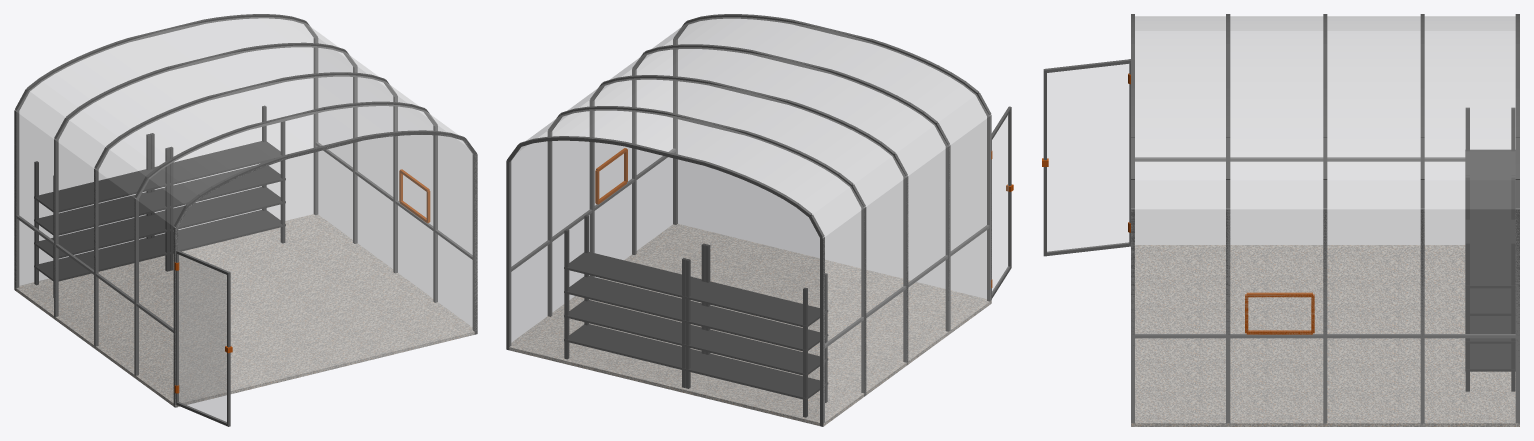
File: poi03_semillero_preview.glb
3 renders of one model, left to right at view 1: azimuth 30°, elevation 25°; view 2: azimuth 150°, elevation 25°; view 3: azimuth 270°, elevation 25°, orthographic. The views are drawn at different scales.
Visible parts, largest first — view 1: envolvente_policarbonato, piso_interior_grava, estructura_metalica_arcos, anaquel_1, anaquel_2, puerta_P1, ventana_W1; view 2: envolvente_policarbonato, piso_interior_grava, estructura_metalica_arcos, anaquel_1, anaquel_2, puerta_P1, ventana_W1; view 3: envolvente_policarbonato, piso_interior_grava, puerta_P1, estructura_metalica_arcos, anaquel_2, anaquel_1, ventana_W1.
Boxes of the visible parts, box(x1,y1,x2,y2) form: envolvente_policarbonato: box(15, 17, 477, 403); piso_interior_grava: box(14, 214, 474, 406); estructura_metalica_arcos: box(14, 14, 477, 407); anaquel_1: box(34, 134, 170, 297); anaquel_2: box(150, 105, 285, 270); puerta_P1: box(174, 250, 232, 426); ventana_W1: box(399, 169, 430, 223); envolvente_policarbonato: box(509, 17, 991, 423); piso_interior_grava: box(509, 224, 991, 426); estructura_metalica_arcos: box(506, 14, 991, 426); anaquel_1: box(685, 244, 828, 417); anaquel_2: box(564, 215, 706, 387); puerta_P1: box(991, 106, 1013, 299); ventana_W1: box(595, 148, 627, 204); envolvente_policarbonato: box(1131, 16, 1519, 424); piso_interior_grava: box(1131, 245, 1519, 426); puerta_P1: box(1042, 59, 1130, 256); estructura_metalica_arcos: box(1131, 14, 1519, 423); anaquel_2: box(1465, 176, 1515, 391); anaquel_1: box(1465, 107, 1515, 217); ventana_W1: box(1245, 292, 1314, 334).
Bounding box in the file's own units: 5.1 × 3.62 × 5.77.
Materials: 7 (1 with a texture image).
